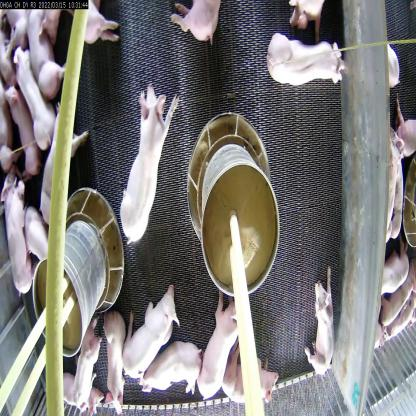Pig: (116, 82, 177, 246), (192, 278, 243, 410), (35, 105, 90, 226), (118, 278, 182, 378), (12, 47, 63, 151), (268, 31, 350, 94), (21, 0, 70, 98), (136, 329, 205, 397), (0, 82, 42, 183), (310, 264, 338, 378), (100, 314, 130, 407), (4, 180, 27, 297), (220, 353, 266, 409), (68, 333, 100, 413)
